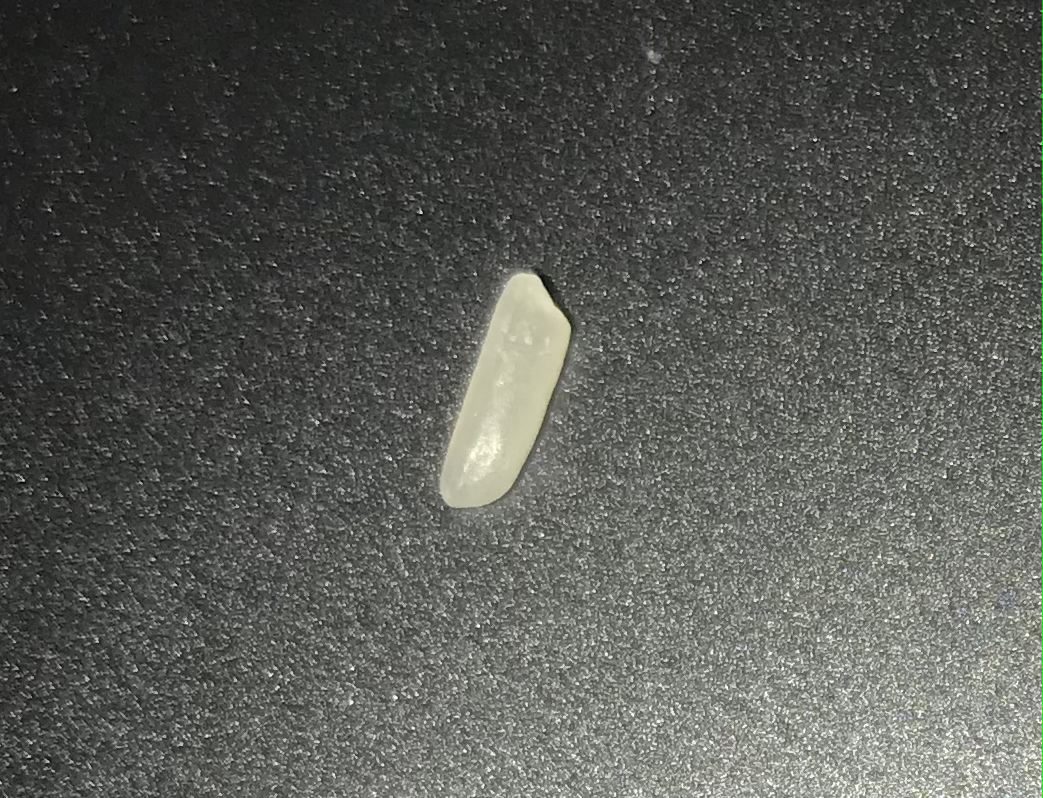Gao Thom My: (433, 272, 589, 509)
